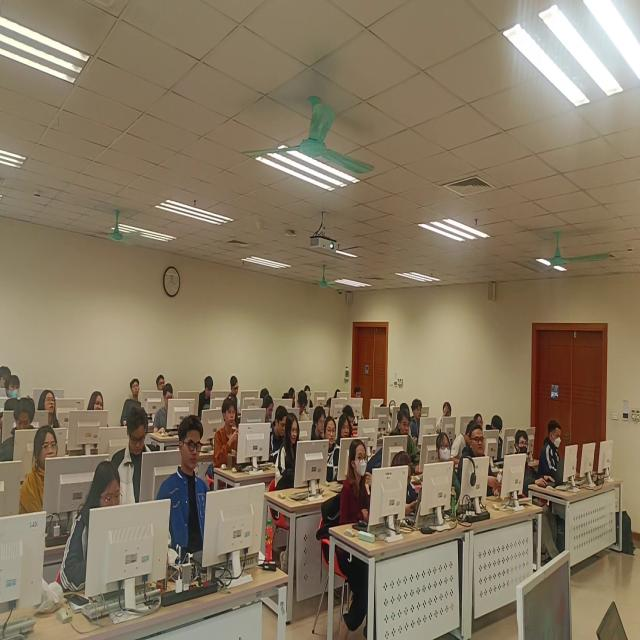raise_hand: (437, 402, 453, 435)
raise_head: (156, 415, 211, 560), (20, 427, 59, 516), (459, 424, 501, 496), (341, 439, 374, 525), (276, 414, 301, 490), (214, 399, 239, 469), (391, 410, 421, 464), (121, 379, 144, 426), (323, 417, 339, 482), (38, 390, 59, 427), (410, 399, 423, 438), (437, 434, 453, 462), (7, 375, 22, 399), (338, 415, 352, 440), (88, 392, 105, 412), (1, 367, 13, 389), (157, 375, 167, 391), (474, 415, 484, 430), (390, 401, 397, 416), (355, 387, 362, 399)
using_computer: (61, 461, 122, 593), (113, 409, 154, 508), (1, 398, 36, 462), (515, 430, 541, 490), (269, 407, 290, 464), (541, 420, 562, 477), (154, 384, 175, 433), (452, 421, 477, 462), (487, 416, 507, 463), (199, 377, 215, 418), (312, 407, 327, 441), (262, 395, 276, 423), (231, 377, 243, 409), (297, 392, 310, 421), (343, 405, 355, 432), (282, 388, 297, 409), (305, 386, 314, 408), (326, 398, 333, 413), (335, 389, 342, 399), (380, 404, 387, 409)
using_phone: (392, 453, 421, 518)
